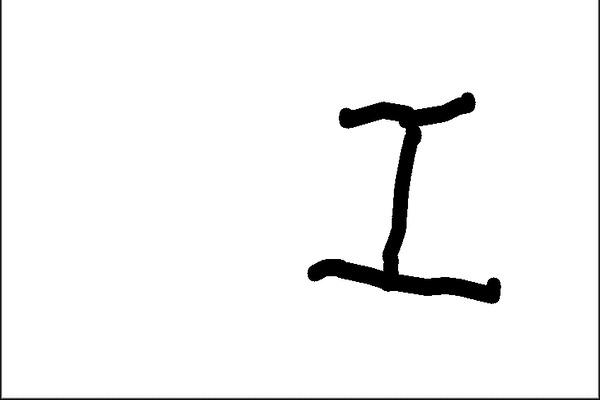i: (300, 86, 508, 308)
